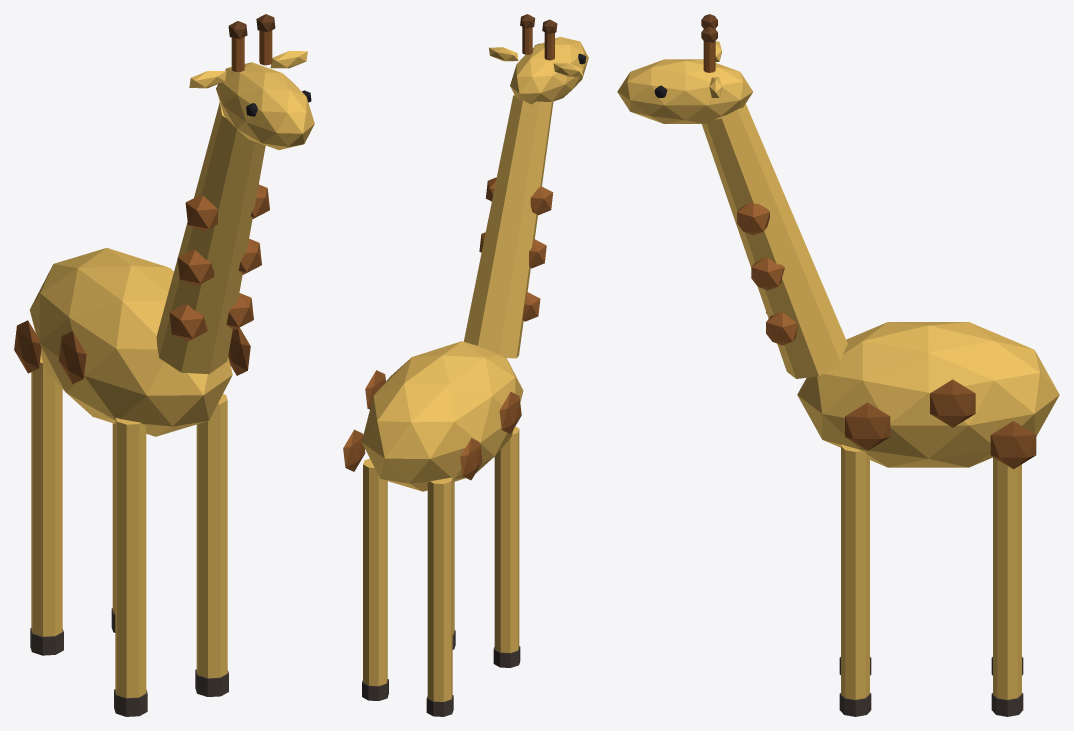
Rendered from Giraffe.fbx.
3 views of the same model, side by side, from view 1: azimuth 30°, elevation 25°; view 2: azimuth 150°, elevation 25°; view 3: azimuth 270°, elevation 25° (orthographic). The views are drawn at different scales.
Parts seen in each view (by area): view 1: Coat, Spots, Hooves, Horns; view 2: Coat, Spots, Hooves; view 3: Coat, Spots, Hooves.
Part boxes in pixels (bbox=[...]): Coat: bbox=[29, 51, 314, 698]; Spots: bbox=[14, 30, 272, 383]; Hooves: bbox=[30, 608, 228, 716]; Horns: bbox=[228, 14, 275, 39]; Coat: bbox=[361, 37, 588, 701]; Spots: bbox=[343, 27, 554, 480]; Hooves: bbox=[362, 630, 520, 716]; Coat: bbox=[617, 41, 1059, 699]; Spots: bbox=[703, 41, 1036, 469]; Hooves: bbox=[839, 657, 1023, 716].
Size of the model in its own units: 1.32 by 6.1 by 3.64.
